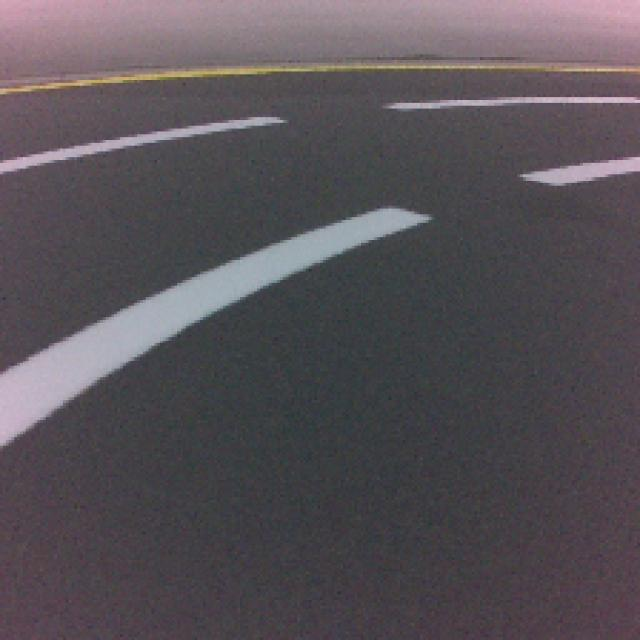Guard rail: (1, 203, 428, 445)
